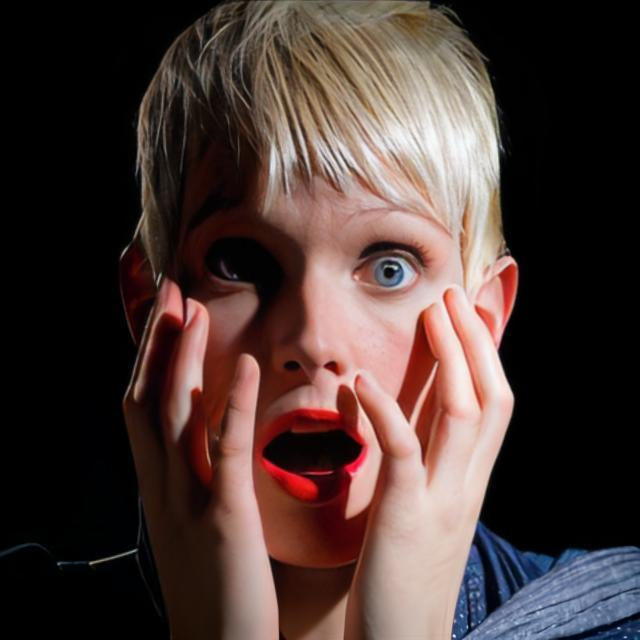fear: (170, 95, 467, 570)
